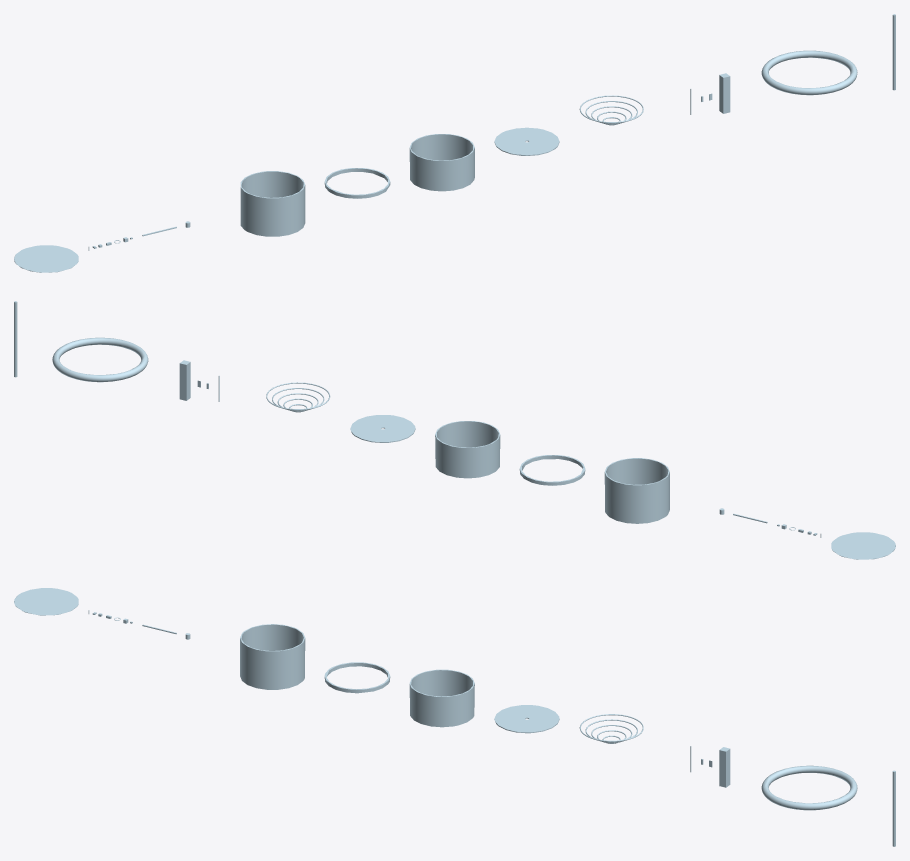
The model's file is gantry_kit_lod1.glb.
3 renders of one model, top to bottom at view 1: azimuth 30°, elevation 25°; view 2: azimuth 150°, elevation 25°; view 3: azimuth 330°, elevation 25°, orthographic.
Visible parts, largest first — view 1: Base wall, Slip wall, Build berm, Deck slab, Gantry roof disc, Slip form; view 2: Base wall, Slip wall, Build berm, Deck slab, Gantry roof disc, Slip form; view 3: Base wall, Slip wall, Build berm, Deck slab, Gantry roof disc, Slip form.
Boxes of the visible parts, x1=… form: Base wall: x1=240, y1=171, x2=305, y2=236; Slip wall: x1=409, y1=134, x2=474, y2=191; Build berm: x1=761, y1=50, x2=857, y2=95; Deck slab: x1=494, y1=127, x2=559, y2=155; Gantry roof disc: x1=14, y1=245, x2=78, y2=272; Slip form: x1=324, y1=168, x2=390, y2=198; Base wall: x1=604, y1=458, x2=669, y2=523; Slip wall: x1=435, y1=421, x2=500, y2=478; Build berm: x1=52, y1=337, x2=148, y2=382; Deck slab: x1=350, y1=415, x2=415, y2=442; Gantry roof disc: x1=831, y1=532, x2=895, y2=559; Slip form: x1=519, y1=455, x2=585, y2=485; Base wall: x1=240, y1=624, x2=305, y2=689; Slip wall: x1=409, y1=669, x2=474, y2=727; Build berm: x1=761, y1=765, x2=857, y2=810; Deck slab: x1=494, y1=705, x2=559, y2=733; Gantry roof disc: x1=14, y1=588, x2=78, y2=615; Slip form: x1=324, y1=662, x2=390, y2=693.
Size of the model in its own units: 310 by 25.31 by 29.39.
